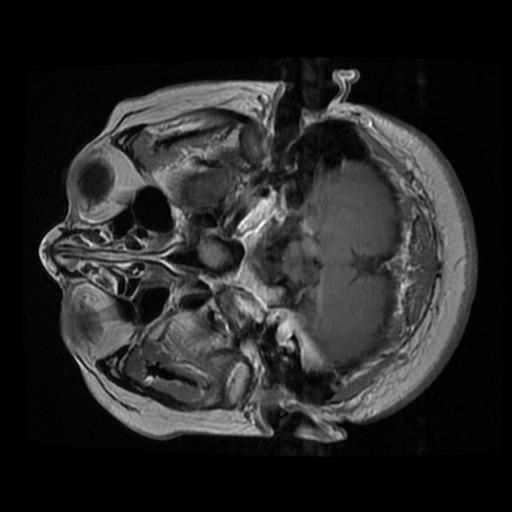pituitary tumour: (195, 236, 228, 269)
